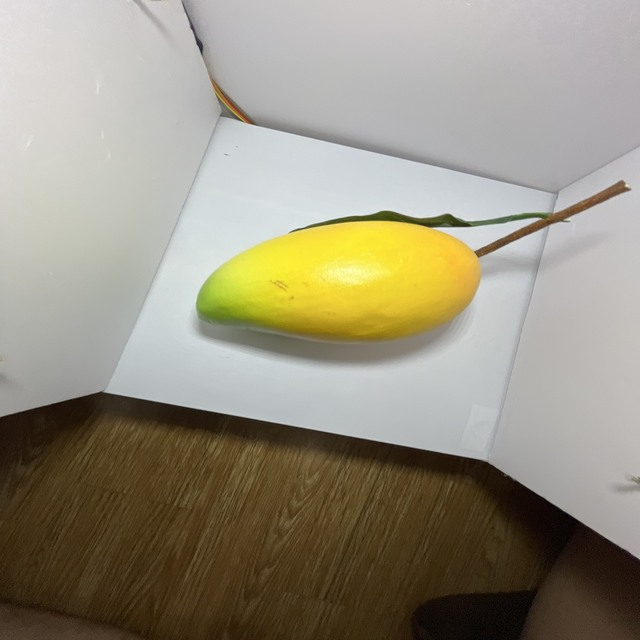Xoai: (175, 184, 502, 390)
